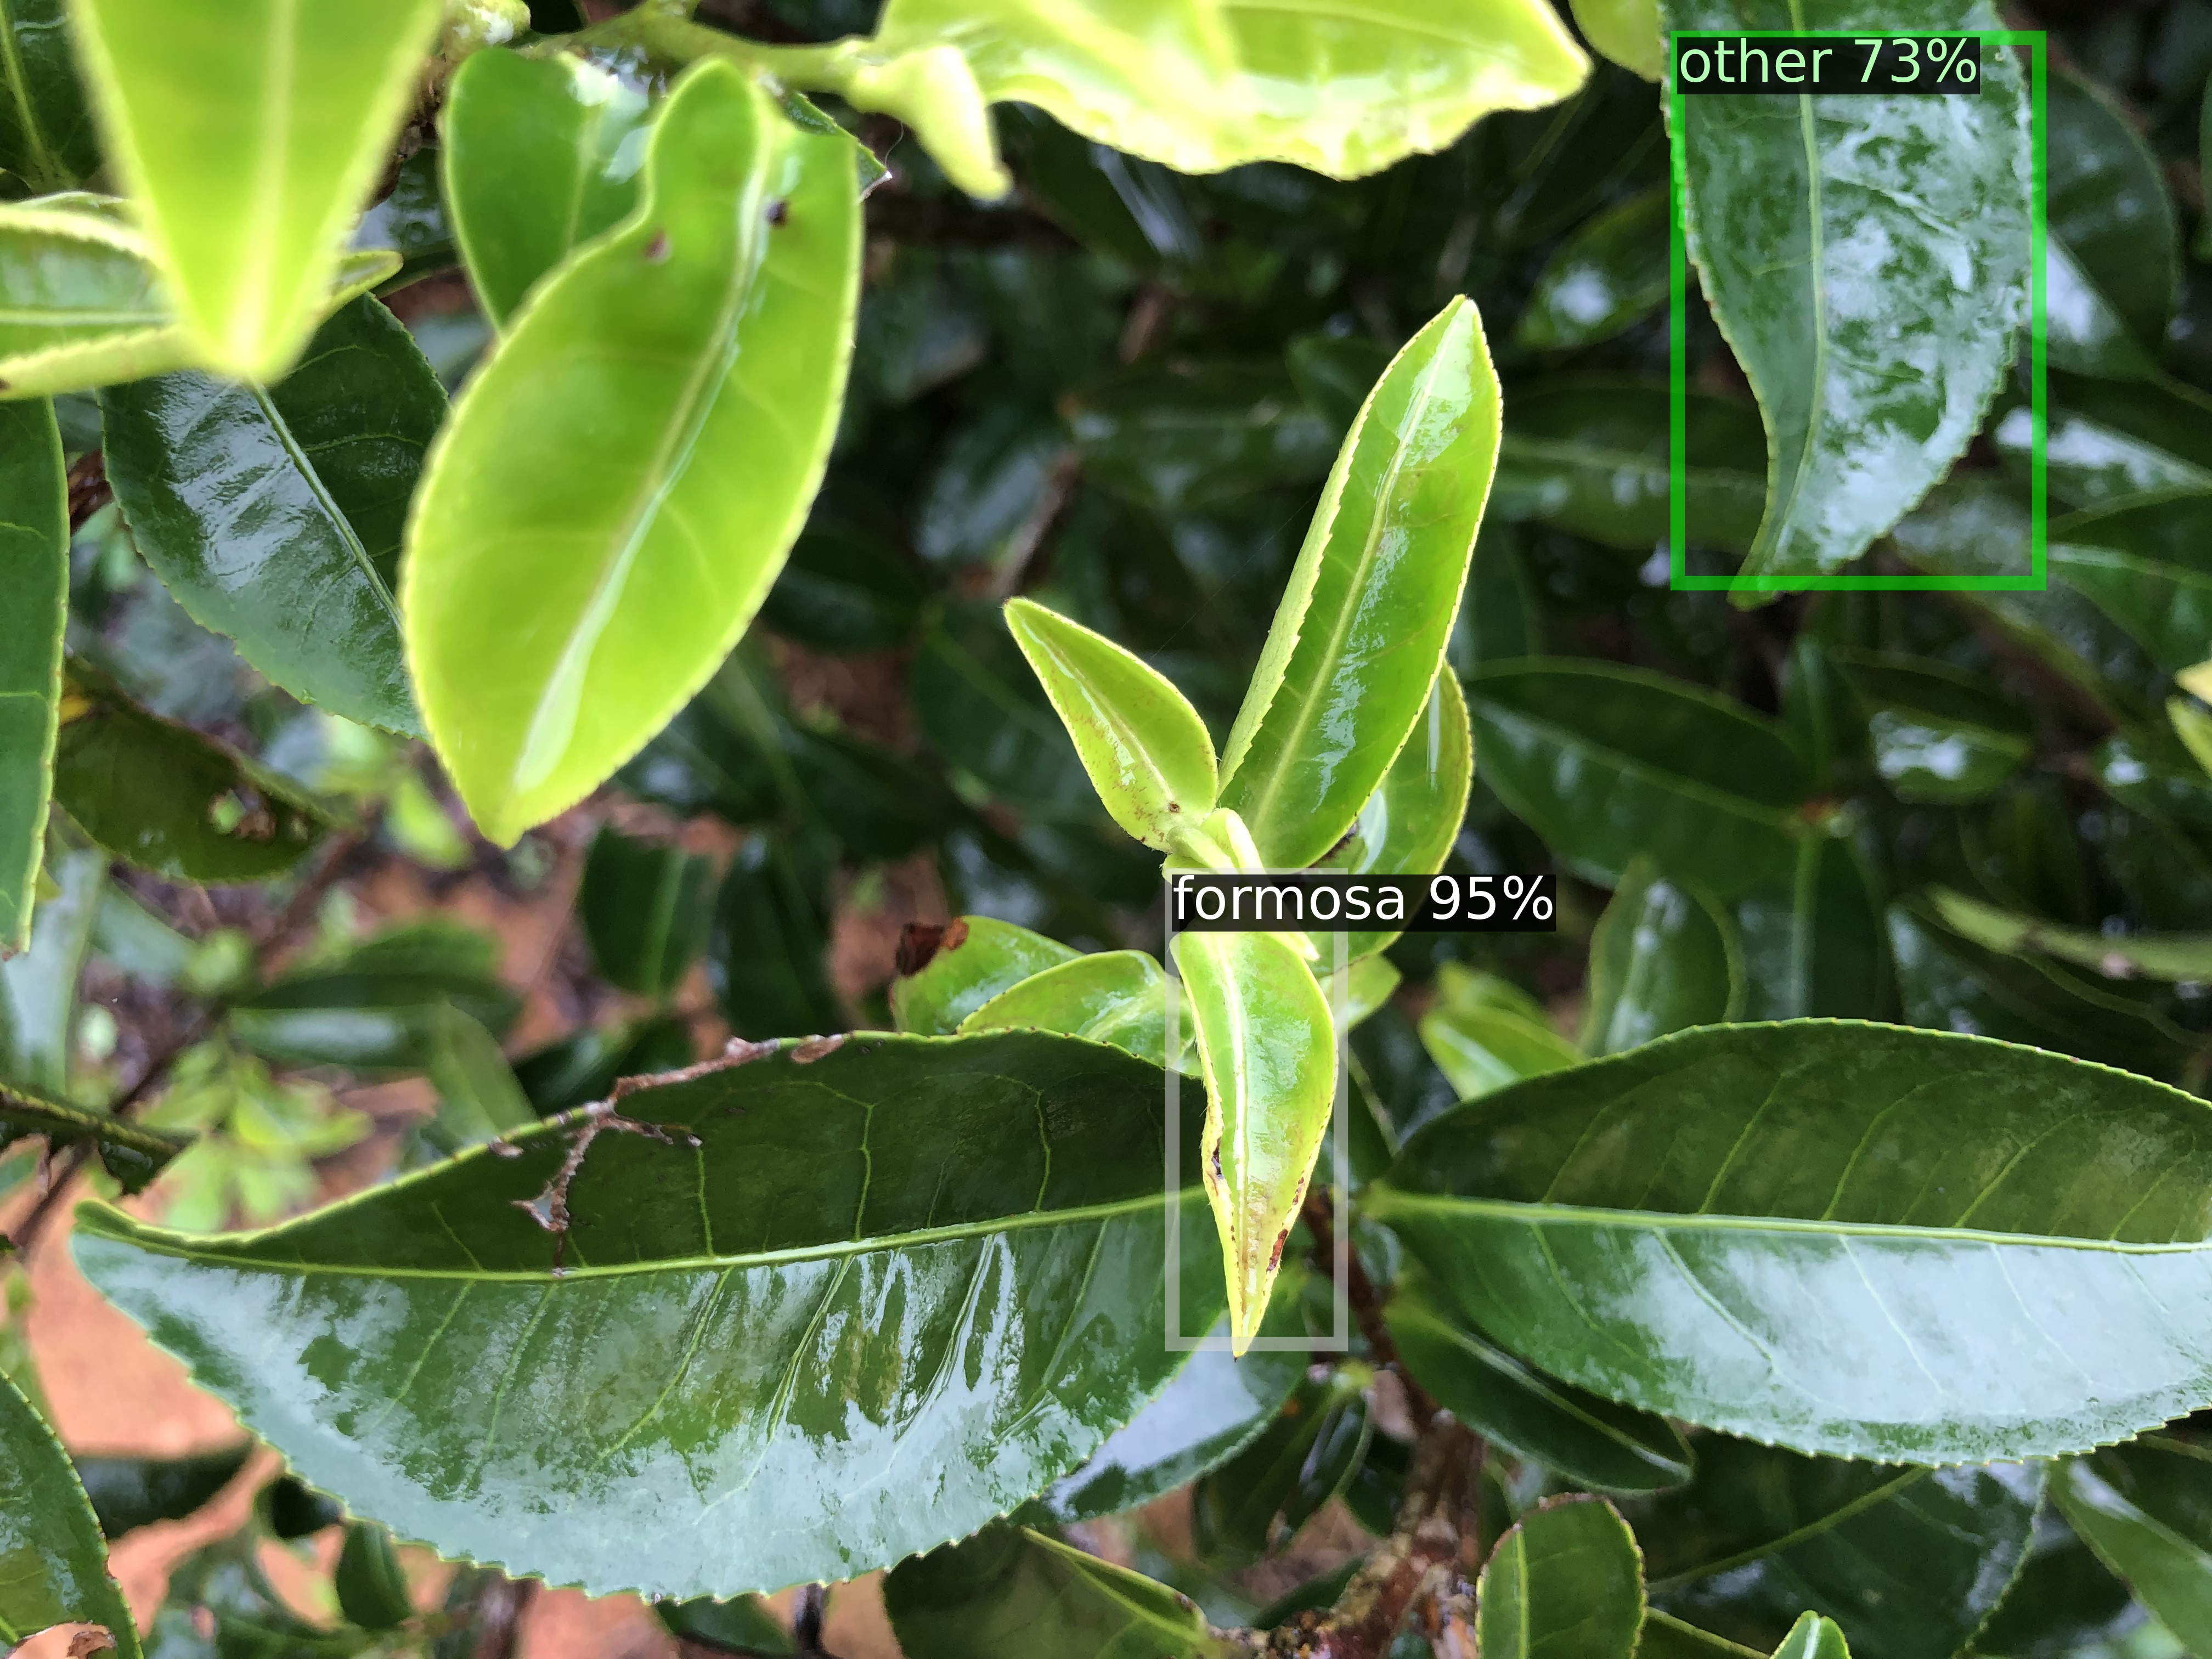formosa: (1172, 875, 1341, 1344)
other: (1677, 37, 2040, 584)
